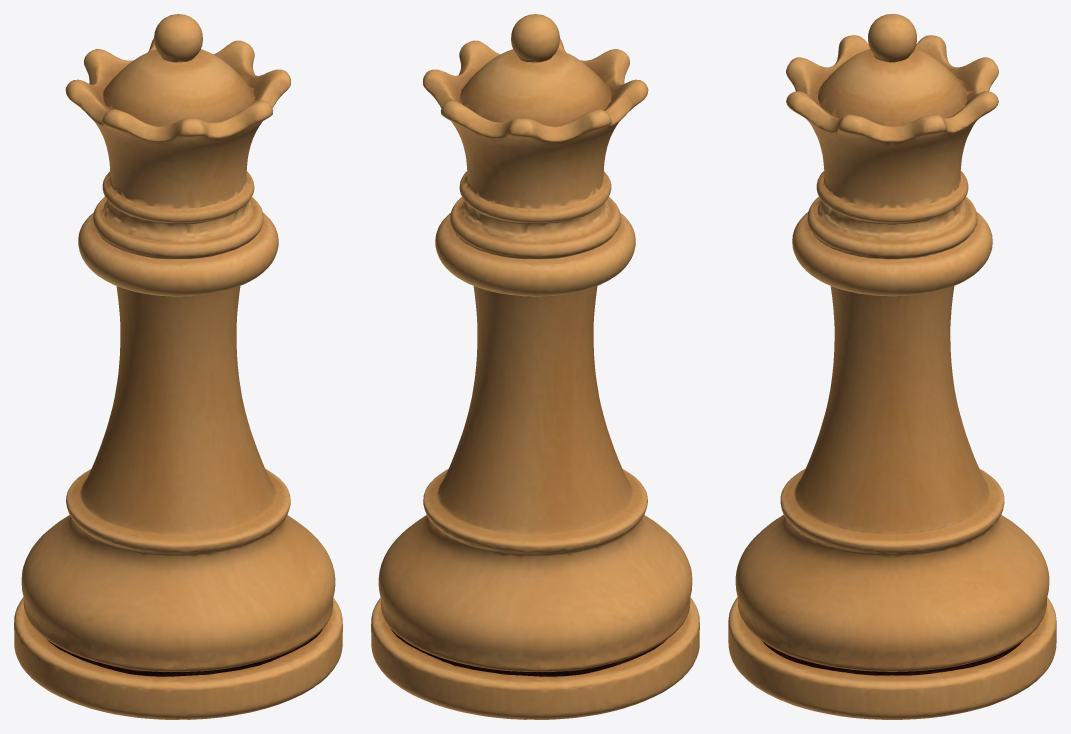
Rendered from 03_queen_light.glb.
3 views of the same model, side by side, from view 1: azimuth 30°, elevation 25°; view 2: azimuth 150°, elevation 25°; view 3: azimuth 270°, elevation 25° (orthographic).
Visible parts, largest first — view 1: world; view 2: world; view 3: world.
Part boxes in pixels (x1,y1,x2,y2): world: (14,14,342,719); world: (371,14,699,719); world: (728,14,1056,719).
Bounding box in the file's own units: 0.467 × 1 × 0.4667.
1 material, 1 textured.
